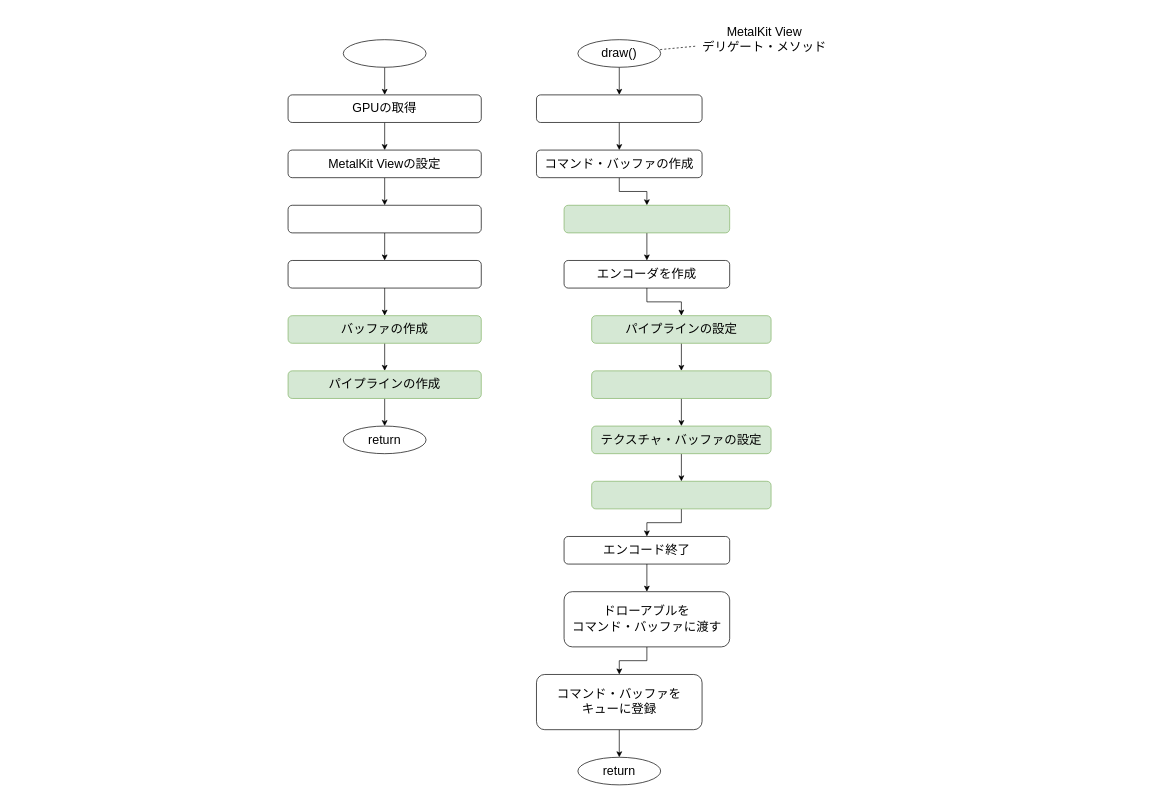
This 1155x797 diagram has some shape labels left out. The centre of each missing label's shape, as x and y in pixels:
"start" belongs at point 384,53.
"コマンド・キューの作成" belongs at point 384,274.
"テクスチャの設定" belongs at point 646,219.
"ドローアブルの取得" belongs at point 619,108.
"幾何プリミティブの設定" belongs at point 681,495.
"画像（テクスチャ）のロード" belongs at point 384,219.
"頂点バッファの設定" belongs at point 681,384.
